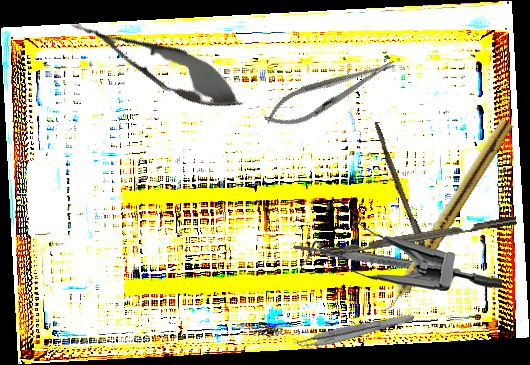Chopper: (298, 216, 519, 270)
Handpiece: (377, 116, 514, 319)
Micro Scissor: (61, 2, 253, 124)
Needle Holder: (259, 48, 402, 137)
Scalpel Handle: (292, 241, 462, 278)
Speculum: (309, 195, 502, 295)
Surgical Spoon: (369, 121, 446, 293)
Tissue Forceps: (293, 306, 415, 354)
